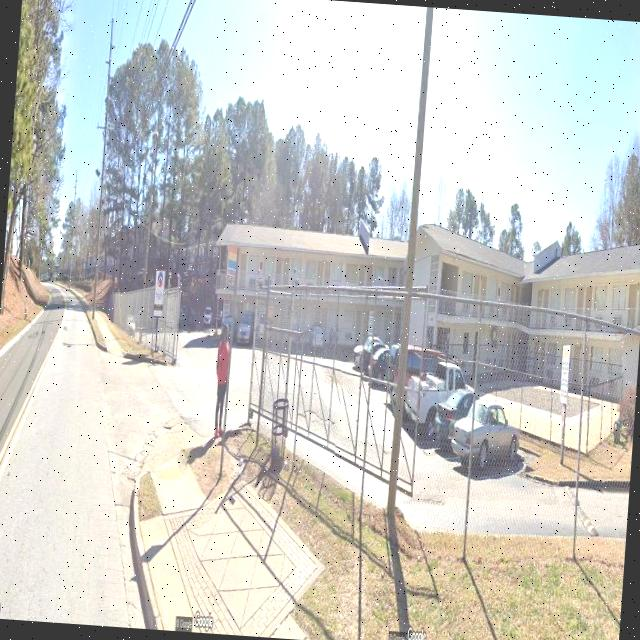trash_can: (268, 397, 289, 472)
